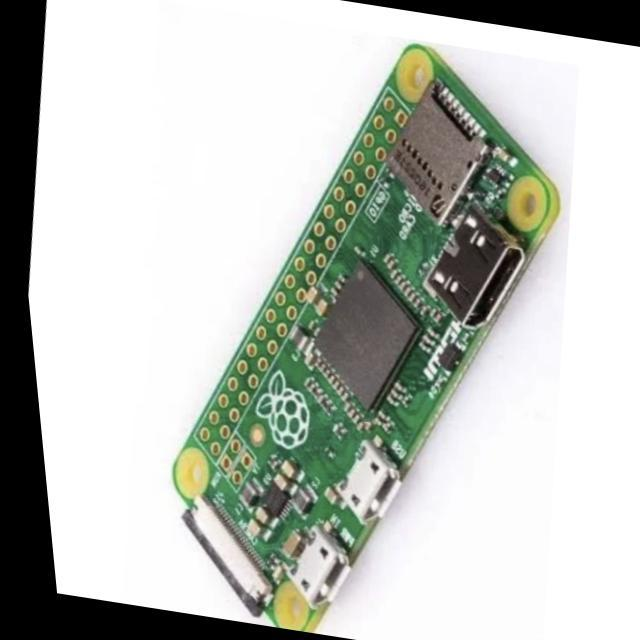Raspberry-Pi-Zero: (174, 45, 560, 630)
